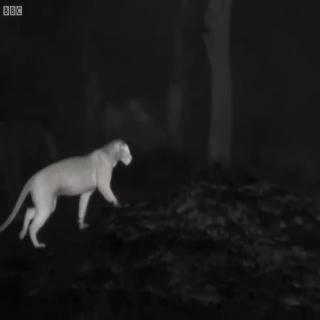Leopard: (3, 141, 147, 255)
